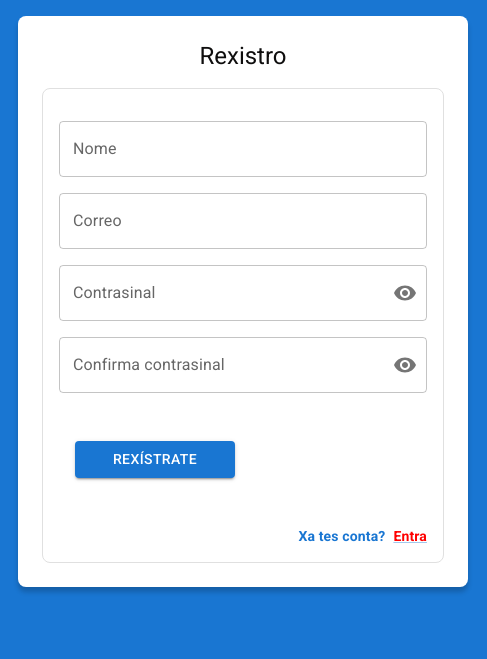
Test case: Register Page › should display error message when passwords do not match
Type "Test User" into the field labelled "Nome". click: {"x": 243, "y": 149}
box: left=59, top=121, right=427, bottom=177
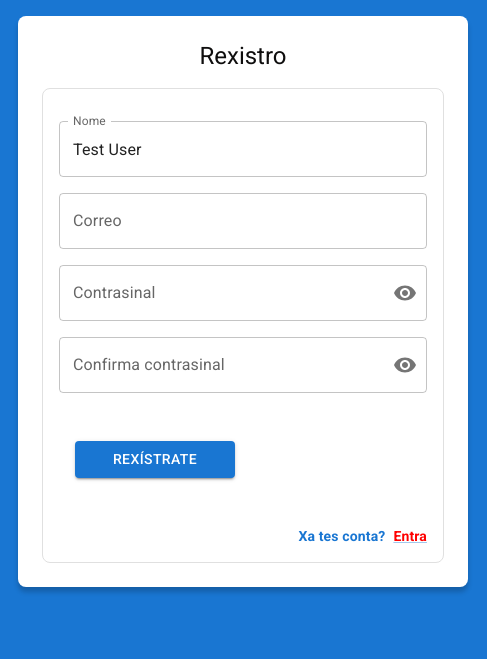
Type "test@da.com" into the field labelled "Correo". click: {"x": 243, "y": 221}
box: left=59, top=193, right=427, bottom=249
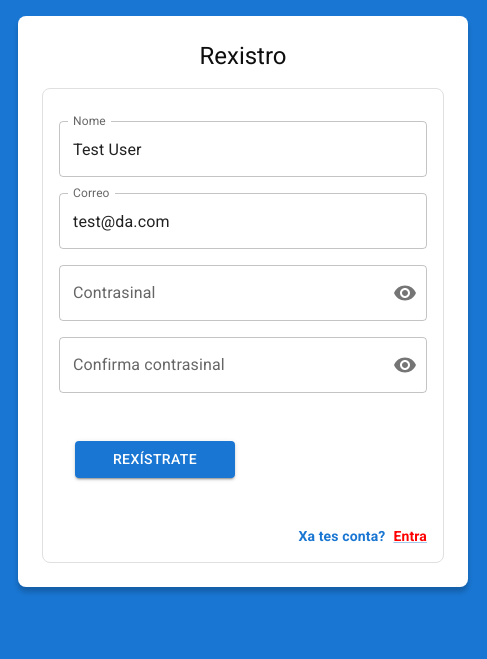
Type "Password@123" into the password field labelled "Contrasinal". click: {"x": 218, "y": 293}
box: left=59, top=265, right=377, bottom=321
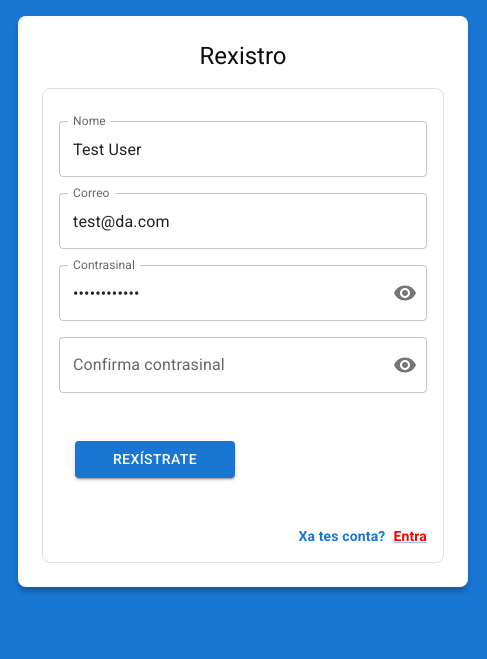
Type "Password@456" into the password field labelled "Confirma contrasinal". click: {"x": 218, "y": 365}
box: left=59, top=337, right=377, bottom=393
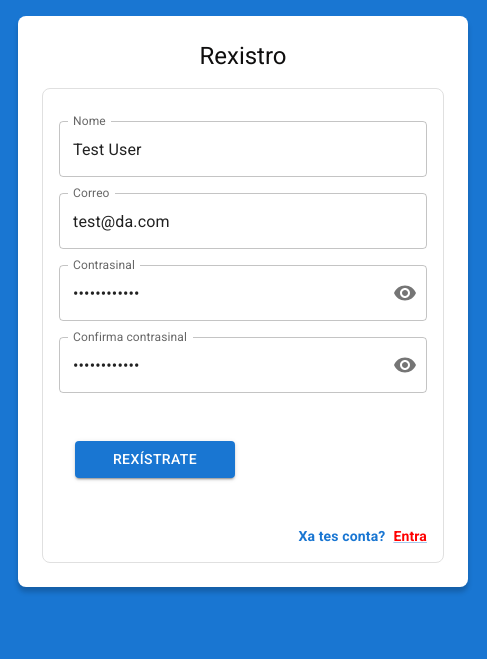
Click the button "Rexístrate". click: {"x": 155, "y": 459}
box: left=75, top=441, right=235, bottom=478
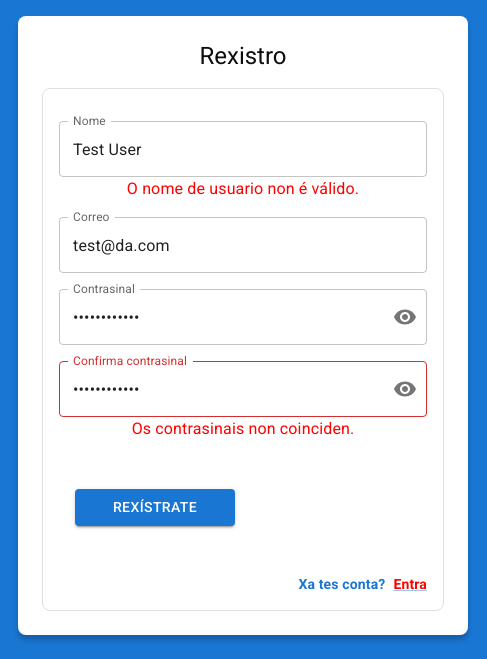
Result: the text "Os contrasinais non coinciden." is shown at left=132, top=419, right=354, bottom=438
